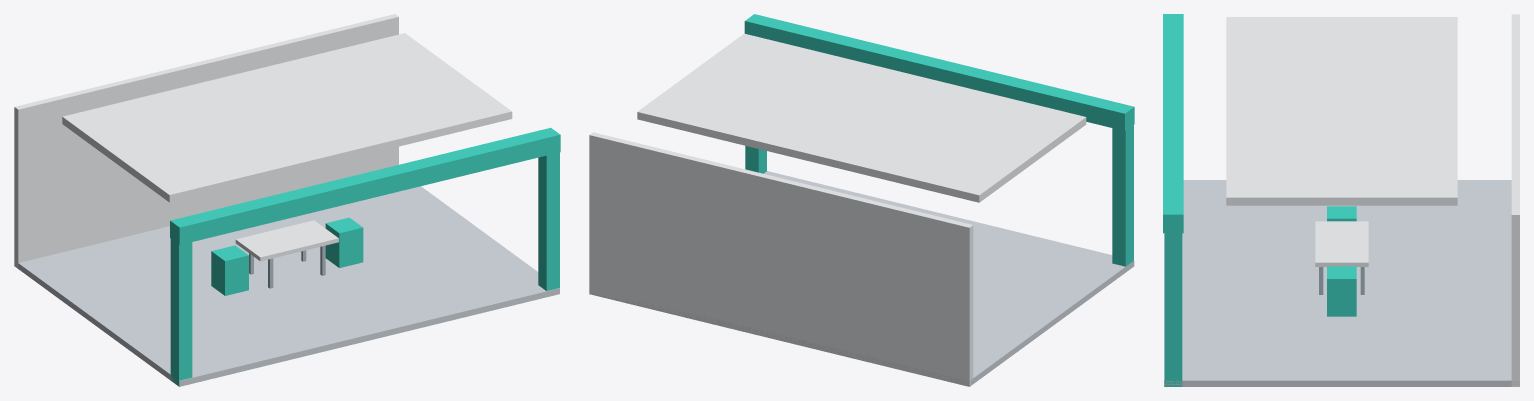
3 views of the same model, side by side, from view 1: azimuth 30°, elevation 25°; view 2: azimuth 150°, elevation 25°; view 3: azimuth 270°, elevation 25° (orthographic). The views are drawn at different scales.
Visible parts, largest first — view 1: Exhibition Booth Concept; view 2: Exhibition Booth Concept; view 3: Exhibition Booth Concept.
Boxes of the visible parts, <box> form: Exhibition Booth Concept: <box>14,14,560,386</box>; Exhibition Booth Concept: <box>589,14,1134,386</box>; Exhibition Booth Concept: <box>1163,14,1519,386</box>.
Bounding box in the file's own units: 8 × 3.34 × 6.02.
